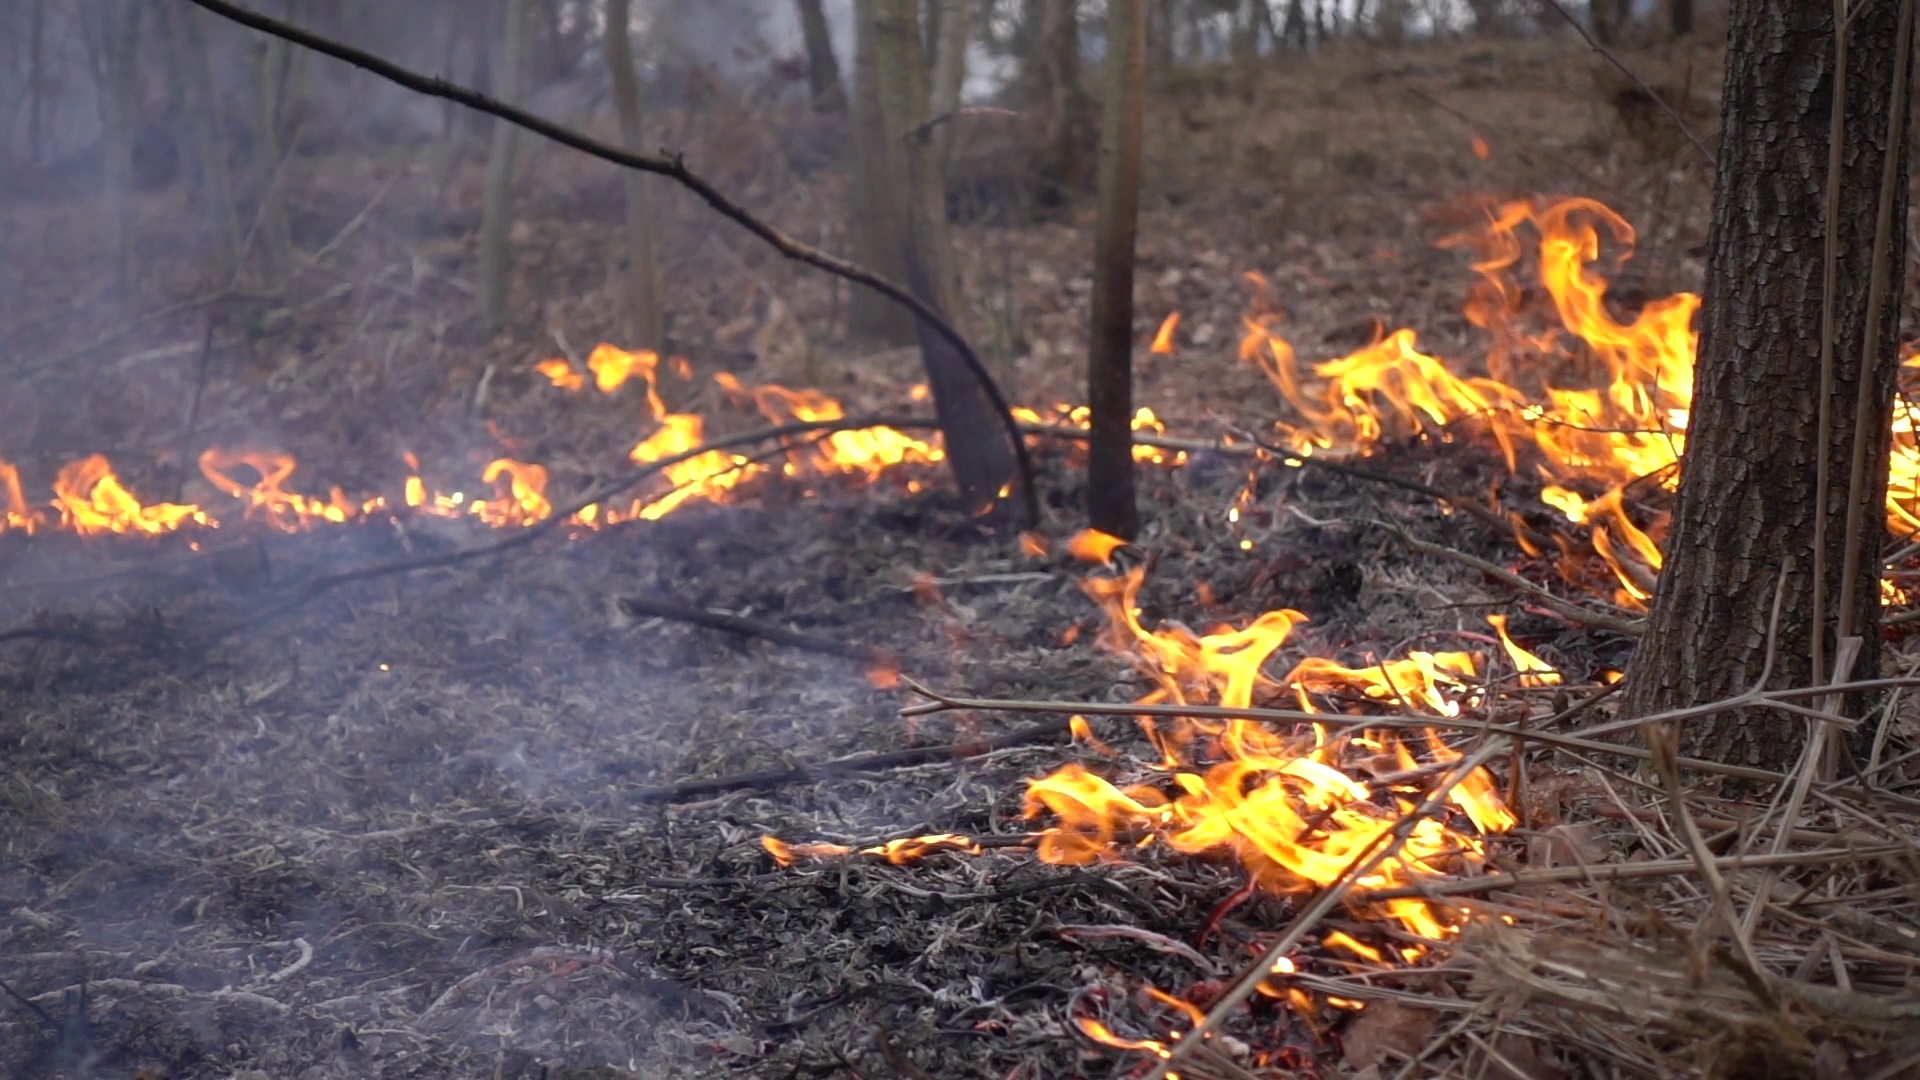fire: (1040, 582, 1507, 918), (1251, 189, 1700, 496), (572, 345, 914, 493), (7, 458, 202, 530), (239, 462, 349, 525), (1888, 398, 1920, 525), (491, 459, 551, 525)
